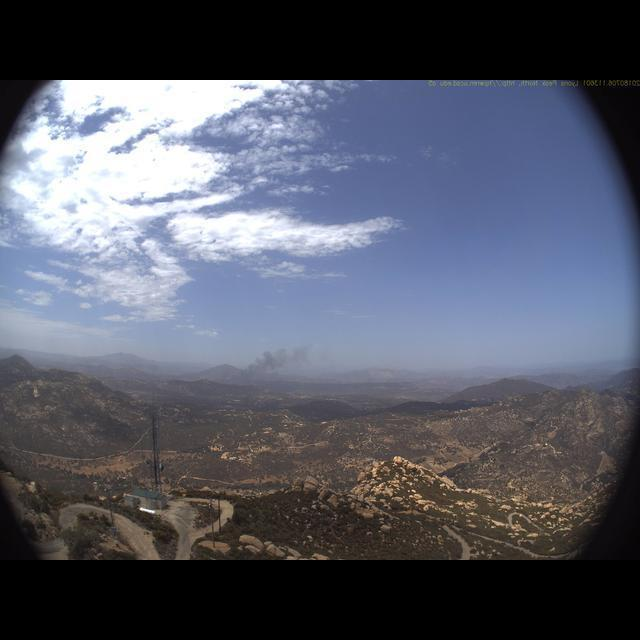Smoke: (228, 334, 333, 386)
